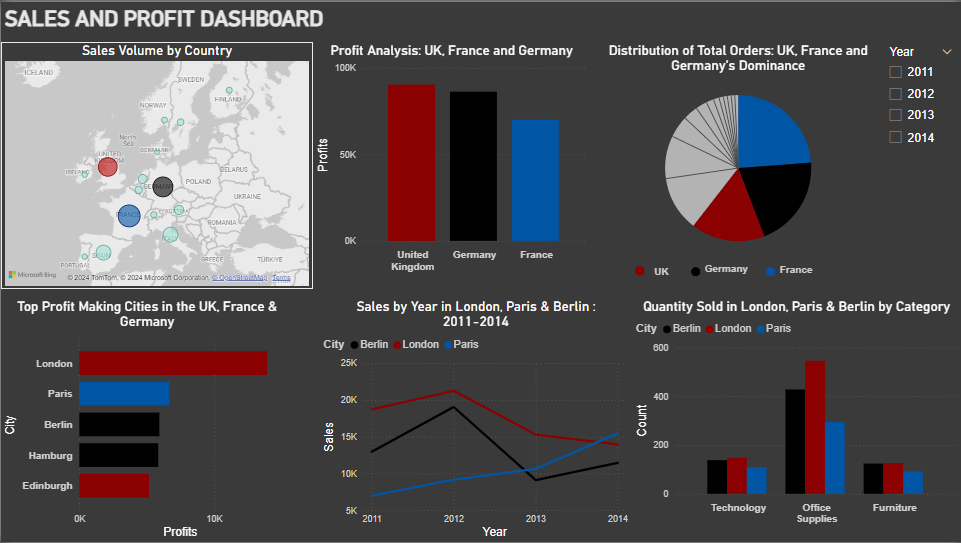

The dashboard page shown, as its layout file describes it:
{"tool":"powerbi","page":{"name":"Page 1","canvas":[1280,720],"ordinal":0},"visuals":[{"type":"map","title":"Sales Volume  by Country","fields":{"Category":["Order Data.Country"],"Size":["Sum(Order Data.Sales)"]},"box":[0,52.5,416.2,330],"z":0},{"type":"barChart","title":"Top Profit Making Cities in the UK, France & Germany","fields":{"Category":["Order Data.City"],"Y":["Sum(Order Data.Profit)"]},"box":[0,395,390,325],"z":1000},{"type":"columnChart","title":"Profit Analysis: UK, France and Germany","fields":{"Category":["Order Data.Country"],"Y":["Sum(Order Data.Profit)"]},"box":[416.2,52.5,368.8,330],"z":2000},{"type":"lineChart","title":"Sales by Year in London, Paris & Berlin : 2011-2014","fields":{"Category":["Order Data.Order Date.Variation.Date Hierarchy.Year"],"Y":["Sum(Order Data.Sales)"],"Series":["Order Data.City"]},"box":[425,395,416.2,325],"z":3000},{"type":"clusteredColumnChart","title":"Quantity Sold in London, Paris & Berlin by Category","fields":{"Y":["Sum(Order Data.Quantity)"],"Category":["Order Data.Category"],"Series":["Order Data.City"]},"box":[841.2,395,438.8,325],"z":4000},{"type":"textbox","box":[0,0,1280,52.5],"z":5000},{"type":"slicer","fields":{"Values":["Order Data.Order Date.Variation.Date Hierarchy.Year"]},"box":[1171.2,52.5,108.8,150],"z":6000},{"type":"pieChart","title":"Distribution of Total Orders: UK, France and Germany''s Dominance","fields":{"Y":["CountNonNull(Order Data.Order ID)"],"Category":["Order Data.Country","Order Data.CountryCategory"]},"box":[785,53.8,396.2,295],"z":7000},{"type":"shape","box":[920,352.5,12.5,12.5],"z":8000},{"type":"shape","box":[845.7,352.3,13.3,13.3],"z":9000},{"type":"shape","box":[1020,353.8,12.5,12.5],"z":10000},{"type":"textbox","box":[859,347.5,44.6,35],"z":11000},{"type":"textbox","box":[933.8,343.8,76.2,31.2],"z":12000},{"type":"textbox","box":[1032.5,345,68.8,31.2],"z":13000}]}

Visuals, with their boxes in screenshot pixels (x1, y1, x2, y2), scaled from the page's 1280x720 canvas onto the 961x543 screenshot:
"Sales Volume  by Country" map: BBox(0, 40, 312, 288)
"Top Profit Making Cities in the UK, France & Germany" barChart: BBox(0, 298, 293, 542)
"Profit Analysis: UK, France and Germany" columnChart: BBox(312, 40, 589, 288)
"Sales by Year in London, Paris & Berlin : 2011-2014" lineChart: BBox(319, 298, 632, 542)
"Quantity Sold in London, Paris & Berlin by Category" clusteredColumnChart: BBox(632, 298, 960, 542)
textbox: BBox(0, 0, 960, 40)
slicer - Order Data.Order Date.Variation.Date Hierarchy.Year: BBox(879, 40, 960, 153)
"Distribution of Total Orders: UK, France and Germany''s Dominance" pieChart: BBox(589, 41, 887, 263)
shape: BBox(691, 266, 700, 275)
shape: BBox(635, 266, 645, 276)
shape: BBox(766, 267, 775, 276)
textbox: BBox(645, 262, 678, 288)
textbox: BBox(701, 259, 758, 283)
textbox: BBox(775, 260, 827, 284)
